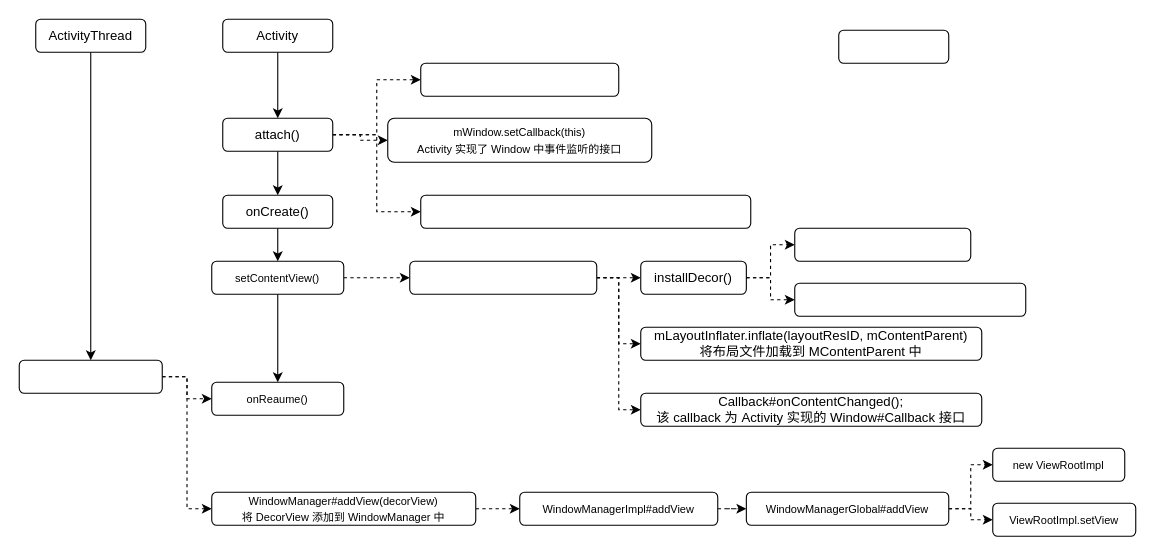
Some shapes in this 1155 by 556 pixel diagram are drawn without their labels. The centre of each missing label's shape, as x and y in pixels:
"handleResumeActivity" belongs at (x=90, y=376).
"mContentParent = generateLayout()" belongs at (x=910, y=299).
"mDecor = generateDecor()" belongs at (x=882, y=244).
"mWindow = new PhoneWindow" belongs at (x=519, y=79).
"mWindow.setWindowManager(WindowManagerImpl)" belongs at (x=585, y=211).
"PhoneWindow# setContentView()" belongs at (x=503, y=277).
"WMS" belongs at (x=893, y=46).
